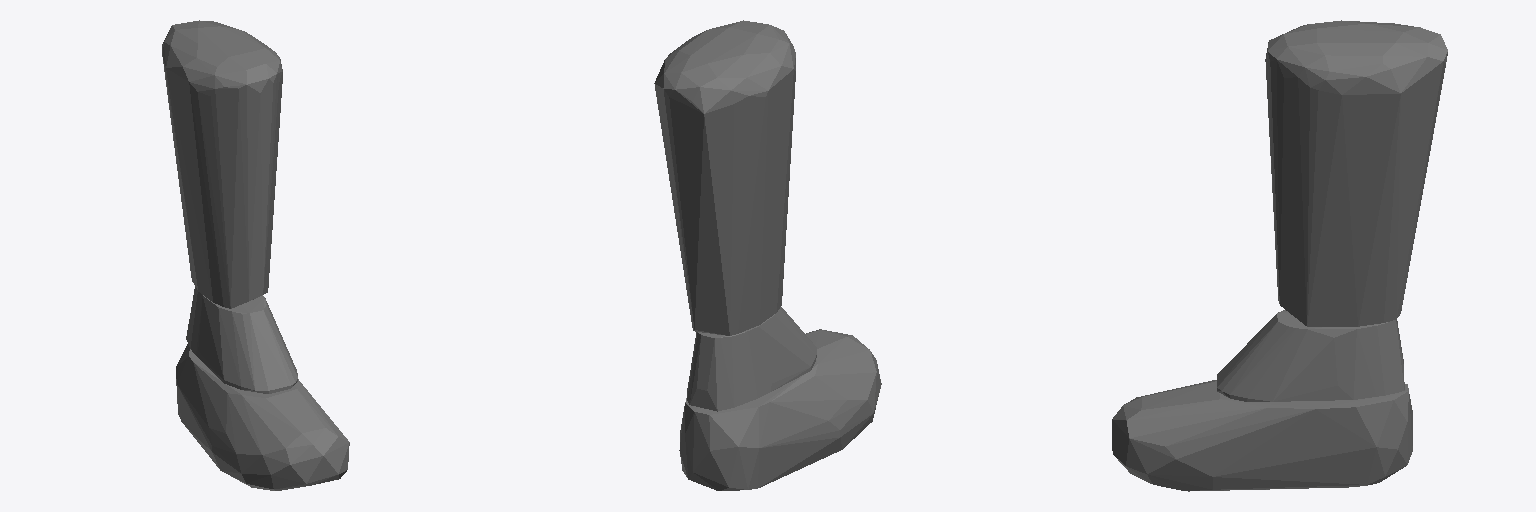
The robot description file, URDF, robot "boot_005":
<?xml version="1.0" ?>
<robot name="boot_005">
  <material name="color">
    <color rgba=".5 .5 .5 1"/>
  </material>

  <link name="base_link">
    <contact>
      <lateral_friction value="1.0"/>
      <rolling_friction value="0.001"/>
      <spinning_friction value="0.001"/>
      <inertia_scaling value="1.0"/>
    </contact>
    <inertial>
      <origin rpy="0 0 0" xyz="0.000636689 0.0245672 -0.0177828"/>
       <mass value="0.1"/>
       <inertia ixx="1" ixy="0" ixz="0" iyy="1" iyz="0" izz="1"/>
    </inertial>

    <visual>
      <origin rpy="0 0 0" xyz="0 0 0"/>
      <geometry>
        <mesh filename="boot_005_vhacd_0_of_3.obj" scale="1 1 1"/>
      </geometry>
      <material name="color"/>
    </visual>
    <visual>
      <origin rpy="0 0 0" xyz="0 0 0"/>
      <geometry>
        <mesh filename="boot_005_vhacd_1_of_3.obj" scale="1 1 1"/>
      </geometry>
      <material name="color"/>
    </visual>
    <visual>
      <origin rpy="0 0 0" xyz="0 0 0"/>
      <geometry>
        <mesh filename="boot_005_vhacd_2_of_3.obj" scale="1 1 1"/>
      </geometry>
      <material name="color"/>
    </visual>

    <collision>
      <origin rpy="0 0 0" xyz="0 0 0"/>
      <geometry>
        <mesh filename="boot_005_vhacd_0_of_3.obj" scale="1 1 1"/>
      </geometry>
    </collision>
    <collision>
      <origin rpy="0 0 0" xyz="0 0 0"/>
      <geometry>
        <mesh filename="boot_005_vhacd_1_of_3.obj" scale="1 1 1"/>
      </geometry>
    </collision>
    <collision>
      <origin rpy="0 0 0" xyz="0 0 0"/>
      <geometry>
        <mesh filename="boot_005_vhacd_2_of_3.obj" scale="1 1 1"/>
      </geometry>
    </collision>

  </link>
</robot>

--- Render facts (derived) ---
Views: 3 orthographic renders of the robot side by side, from view 1: azimuth 30°, elevation 25°; view 2: azimuth 150°, elevation 25°; view 3: azimuth 270°, elevation 25°.
Robot: boot_005 — 1 links, 0 joints (none); root link base_link; default pose: all joints at 0.
Visible links, largest first — view 1: base_link; view 2: base_link; view 3: base_link.
Link boxes in pixels (x1,y1,x2,y2): base_link: (162, 20, 349, 490); base_link: (654, 20, 881, 490); base_link: (1112, 20, 1447, 491).
Bounding box of the posed robot: 0.1127 × 0.2784 × 0.4035 m (x, y, z).
Meshes: 3 distinct files referenced, 3 mesh visuals loaded (3 OBJ).